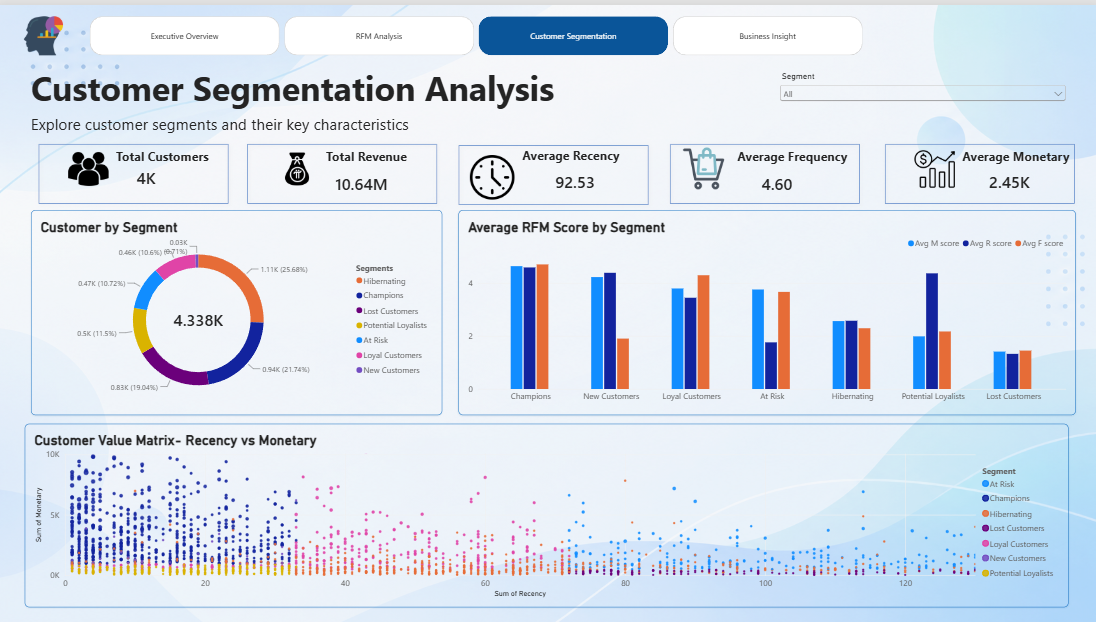

The dashboard page shown, as its layout file describes it:
{"tool":"powerbi","page":{"name":"Customer Segmentation","canvas":[1920,1080],"ordinal":2},"visuals":[{"type":"cardVisual","fields":{"Data":["customer_rfm_final.Total Customers"]},"box":[228,264,75,72.5],"z":0},{"type":"cardVisual","fields":{"Data":["customer_rfm_final.Average Recency"]},"box":[956.5,280.4,106.5,54.3],"z":1000},{"type":"cardVisual","fields":{"Data":["customer_rfm_final.Total Revenue"]},"box":[573.9,282.6,128.3,54.3],"z":2000},{"type":"textbox","box":[60,105,1020,85],"z":3000},{"type":"cardVisual","fields":{"Data":["customer_rfm_final.Average Monetary"]},"box":[1710.9,278.3,115.2,58.7],"z":4000},{"type":"cardVisual","fields":{"Data":["customer_rfm_final.Average Frequency"]},"box":[1315.2,278.3,106.5,63],"z":5000},{"type":"slicer","fields":{"Values":["customer_rfm_final.Segment"]},"box":[1358.7,115.2,506.3,72],"z":6000},{"type":"scatterChart","title":"Customer Value Matrix- Recency vs Monetary","fields":{"Category":["customer_rfm_final.CustomerID"],"Series":["customer_rfm_final.Segment"],"Size":["Sum(customer_rfm_final.Frequency)"],"X":["Sum(customer_rfm_final.Recency)"],"Y":["Sum(customer_rfm_final.Monetary)"]},"box":[50,728.3,1815.2,319.6],"z":9000},{"type":"image","box":[2,20,160,68],"z":10000},{"type":"shape","box":[65,232.5,348,122],"z":11000,"group":"g1"},{"type":"shape","box":[427.5,232.5,348,122],"z":11000,"group":"g3"},{"type":"shape","box":[1162.5,232.5,348,122],"z":11000,"group":"g5"},{"type":"shape","box":[1537.5,232.5,348,122],"z":11000,"group":"g4"},{"type":"shape","box":[795,235,348,122],"z":11000,"group":"g2"},{"type":"pageNavigator","box":[162,20,1346,68],"z":12000},{"type":"textbox","box":[915,245,212.5,35],"z":13000,"group":"g2"},{"type":"textbox","box":[207.5,248.7,187.5,35],"z":13000,"group":"g1"},{"type":"textbox","box":[573.7,248.7,170,40],"z":13000,"group":"g3"},{"type":"textbox","box":[1288.7,248.7,202.5,42.5],"z":13000,"group":"g5"},{"type":"textbox","box":[1681.3,248.7,197.5,30],"z":13000,"group":"g4"},{"type":"image","box":[1178.7,248.7,105,72.5],"z":14000,"group":"g5"},{"type":"image","box":[93,249.1,134,70.3],"z":14000,"group":"g1"},{"type":"image","box":[455.5,249.1,134,70.3],"z":14000,"group":"g3"},{"type":"image","box":[1565.5,249.1,134,70.3],"z":14000,"group":"g4"},{"type":"image","box":[805,260,112.5,77.5],"z":14000,"group":"g2"},{"type":"textbox","box":[60,190,822.5,37.5],"z":15000},{"type":"group","id":"g1","title":"Group 1","box":[65,232.5,348,122],"z":15001},{"type":"group","id":"g2","title":"Group 1","box":[795,235,348,122],"z":15002},{"type":"group","id":"g3","title":"Group 1","box":[427.5,232.5,348,122],"z":15003},{"type":"group","id":"g4","title":"Group 1","box":[1537.5,232.5,348,122],"z":15004},{"type":"group","id":"g5","title":"Group 1","box":[1162.5,232.5,348,122],"z":15005},{"type":"donutChart","title":"Customer by Segment","fields":{"Category":["customer_rfm_final.Segment"],"Y":["CountNonNull(customer_rfm_final.CustomerID)"]},"box":[60.9,356.5,715.2,356.5],"z":15006},{"type":"clusteredColumnChart","title":"Average RFM Score by Segment","fields":{"Category":["customer_rfm_final.Segment"],"Y":["customer_rfm_final.Avg M score","customer_rfm_final.Avg R score","customer_rfm_final.Avg F score"]},"box":[804.3,356.5,1073.9,356.5],"z":15007}]}

Visuals, with their boxes in screenshot pixels (x1, y1, x2, y2), scaled from the page's 1920x1080 canvas onto the 1096x622 screenshot:
cardVisual - customer_rfm_final.Total Customers: <bbox>130, 152, 173, 194</bbox>
cardVisual - customer_rfm_final.Average Recency: <bbox>546, 161, 607, 193</bbox>
cardVisual - customer_rfm_final.Total Revenue: <bbox>328, 163, 401, 194</bbox>
textbox: <bbox>34, 60, 616, 109</bbox>
cardVisual - customer_rfm_final.Average Monetary: <bbox>977, 160, 1042, 194</bbox>
cardVisual - customer_rfm_final.Average Frequency: <bbox>751, 160, 812, 197</bbox>
slicer - customer_rfm_final.Segment: <bbox>776, 66, 1065, 108</bbox>
"Customer Value Matrix- Recency vs Monetary" scatterChart: <bbox>29, 419, 1065, 604</bbox>
image: <bbox>1, 12, 92, 51</bbox>
shape: <bbox>37, 134, 236, 204</bbox>
shape: <bbox>244, 134, 443, 204</bbox>
shape: <bbox>664, 134, 862, 204</bbox>
shape: <bbox>878, 134, 1076, 204</bbox>
shape: <bbox>454, 135, 652, 206</bbox>
pageNavigator: <bbox>92, 12, 861, 51</bbox>
textbox: <bbox>522, 141, 644, 161</bbox>
textbox: <bbox>118, 143, 225, 163</bbox>
textbox: <bbox>327, 143, 425, 166</bbox>
textbox: <bbox>736, 143, 851, 168</bbox>
textbox: <bbox>960, 143, 1072, 161</bbox>
image: <bbox>673, 143, 733, 185</bbox>
image: <bbox>53, 143, 130, 184</bbox>
image: <bbox>260, 143, 337, 184</bbox>
image: <bbox>894, 143, 970, 184</bbox>
image: <bbox>460, 150, 524, 194</bbox>
textbox: <bbox>34, 109, 504, 131</bbox>
"Group 1" group: <bbox>37, 134, 236, 204</bbox>
"Group 1" group: <bbox>454, 135, 652, 206</bbox>
"Group 1" group: <bbox>244, 134, 443, 204</bbox>
"Group 1" group: <bbox>878, 134, 1076, 204</bbox>
"Group 1" group: <bbox>664, 134, 862, 204</bbox>
"Customer by Segment" donutChart: <bbox>35, 205, 443, 411</bbox>
"Average RFM Score by Segment" clusteredColumnChart: <bbox>459, 205, 1072, 411</bbox>
